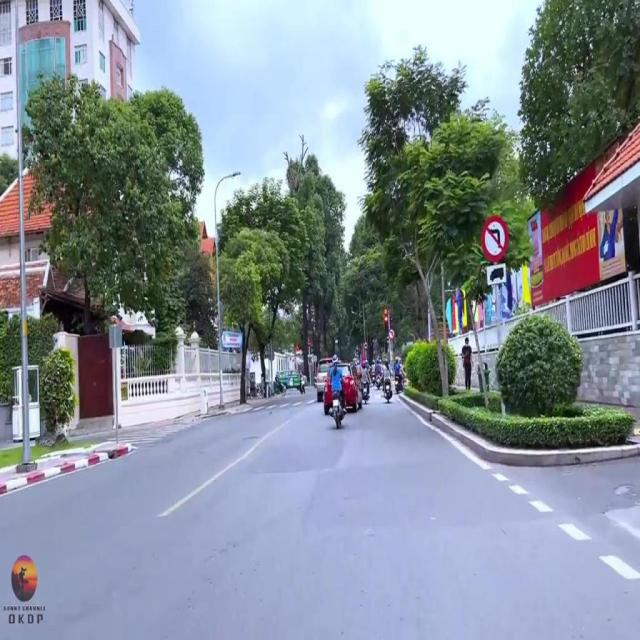cam_o_to_tai: (364, 342, 368, 349)
cam_re_trai: (482, 215, 509, 262), (388, 328, 395, 340)
khac: (487, 263, 507, 286)
